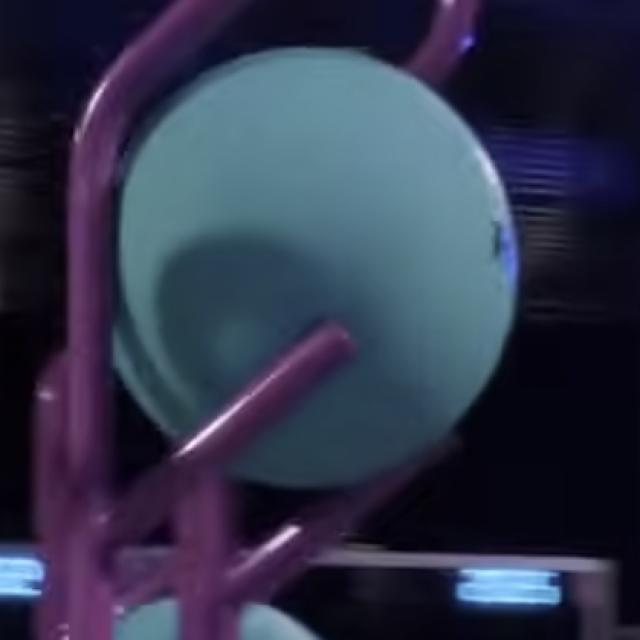Algae: (110, 47, 515, 486), (113, 595, 319, 640)
Reef: (106, 320, 354, 549), (228, 432, 456, 601)
